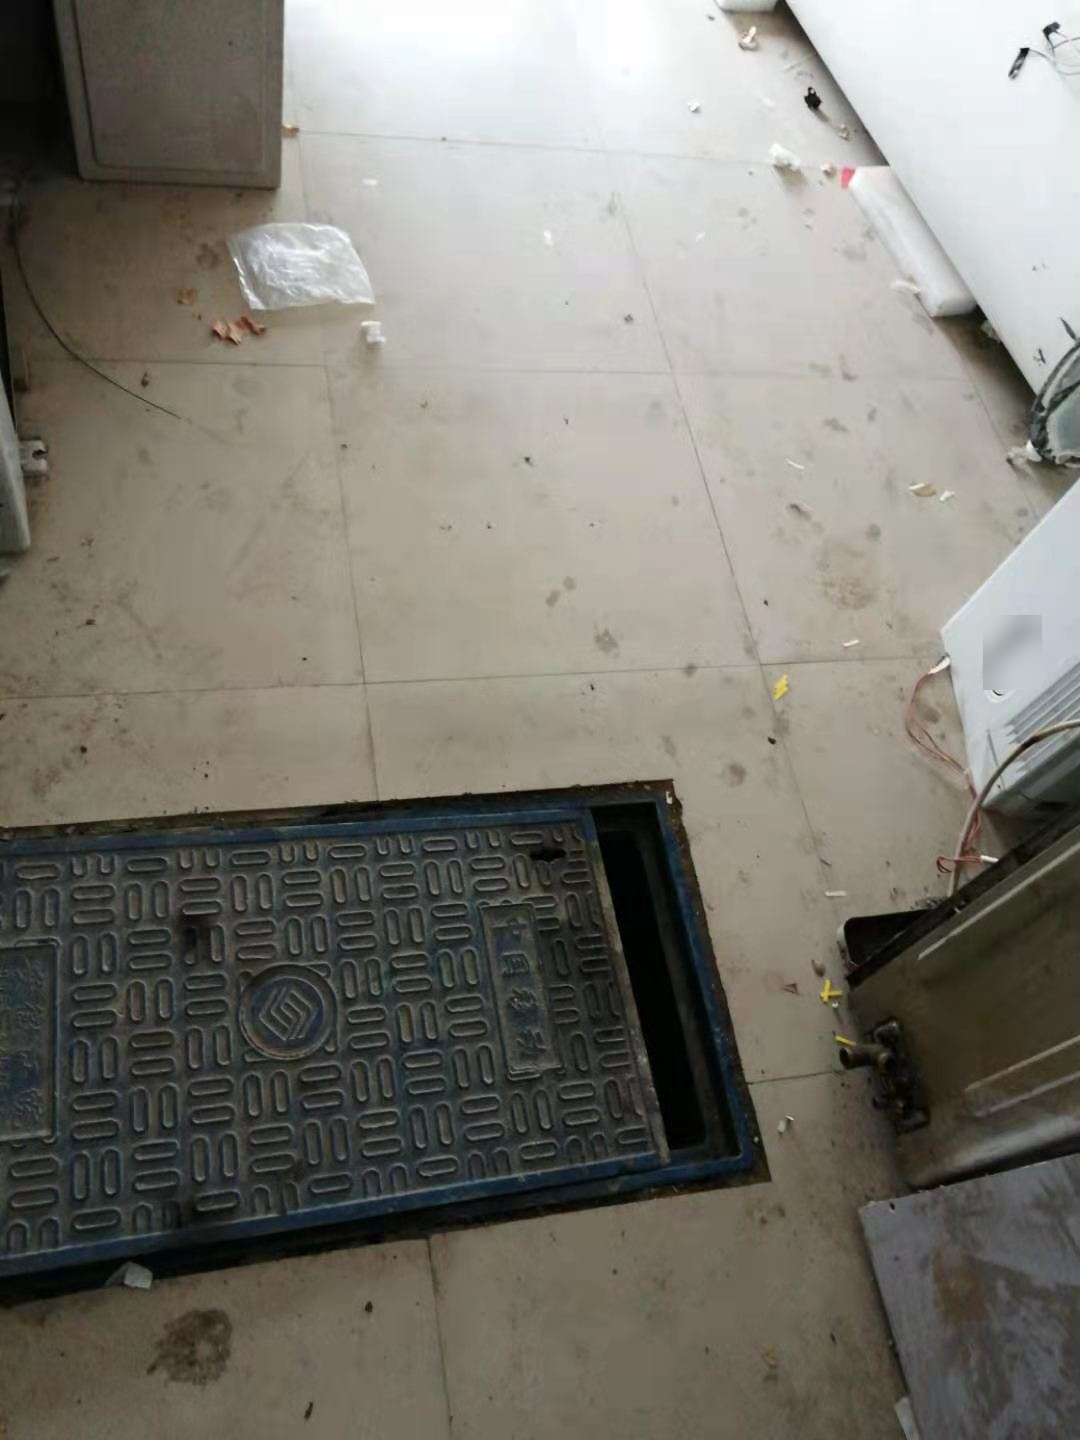uncovered: (8, 777, 776, 1318)
